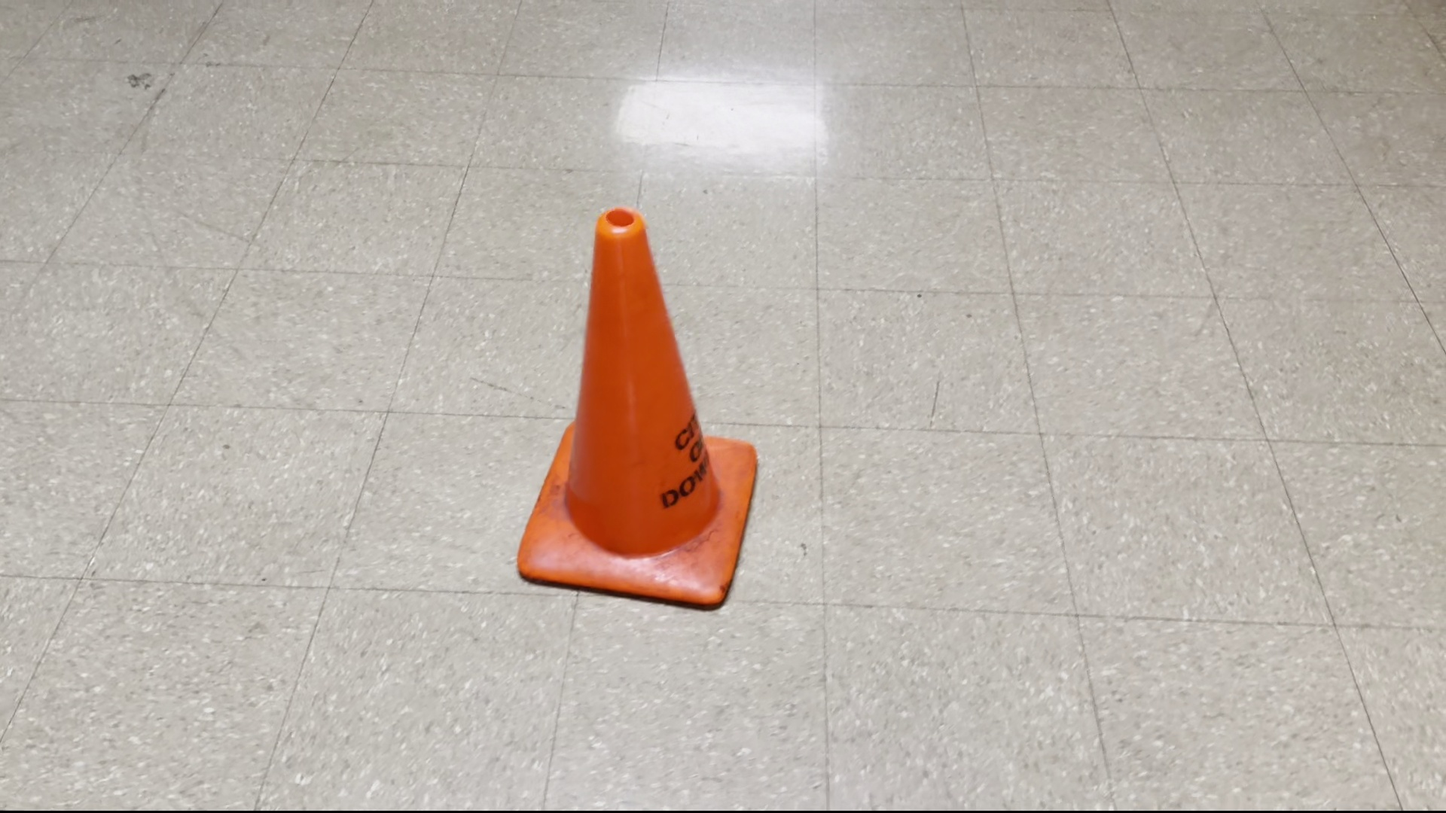traffic_cone: (516, 205, 758, 610)
